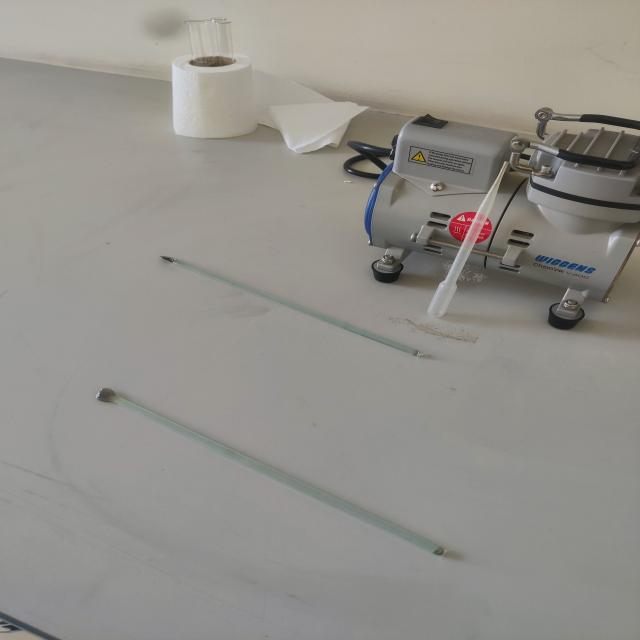Glass_Rod: (82, 378, 470, 578), (146, 223, 440, 400)
Pipette: (414, 146, 536, 325)
